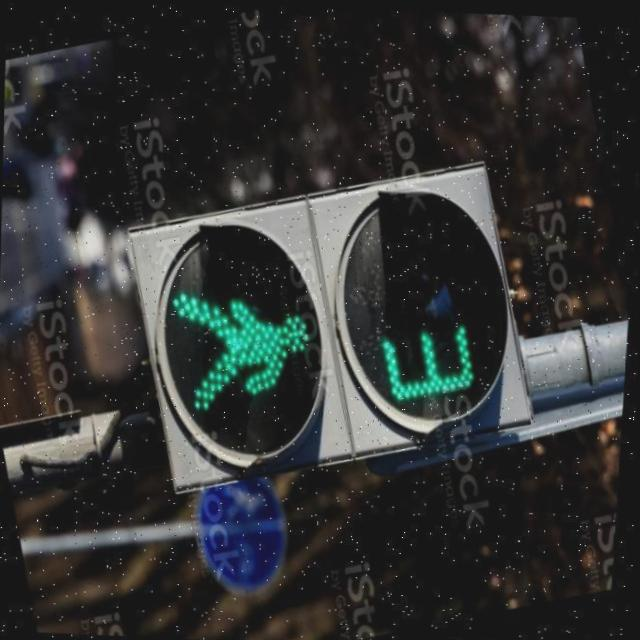green_light: (144, 182, 510, 464)
